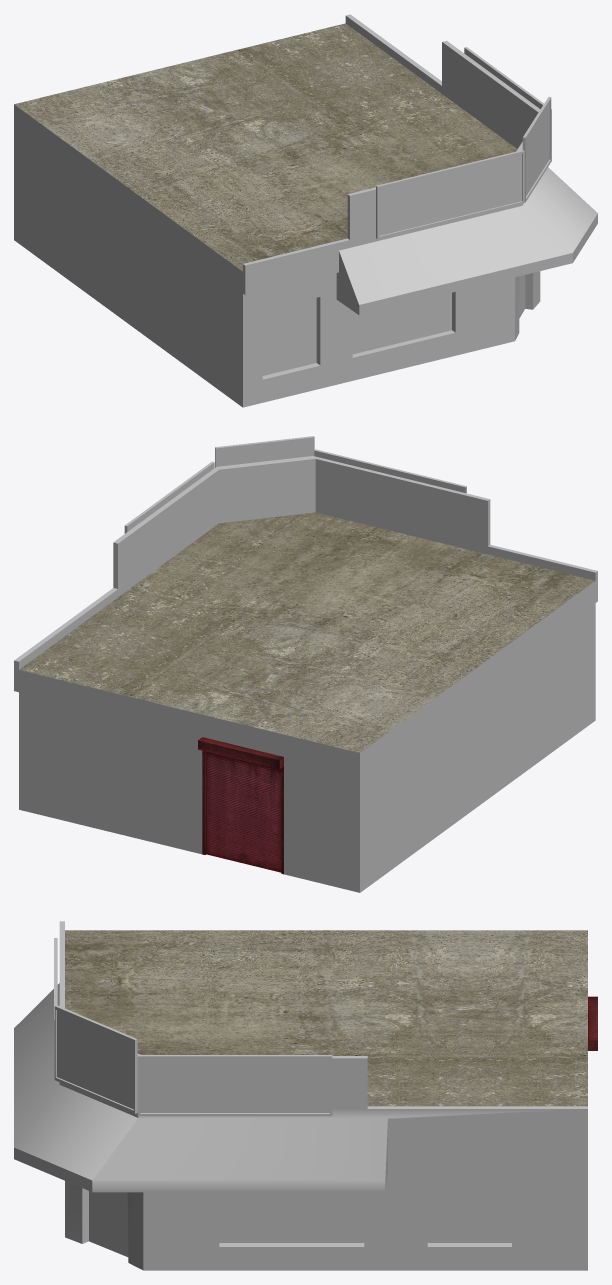
3 renders of one model, top to bottom at view 1: azimuth 30°, elevation 25°; view 2: azimuth 150°, elevation 25°; view 3: azimuth 270°, elevation 25°, orthographic. The views are drawn at different scales.
Parts seen in each view (by area): view 1: B39; view 2: B39; view 3: B39.
Boxes of the visible parts, x1,y1,x2,y2 form: B39: [14, 14, 597, 407]; B39: [14, 436, 597, 892]; B39: [14, 921, 597, 1270].
Bounding box in the file's own units: 1243 × 664 × 1498.
